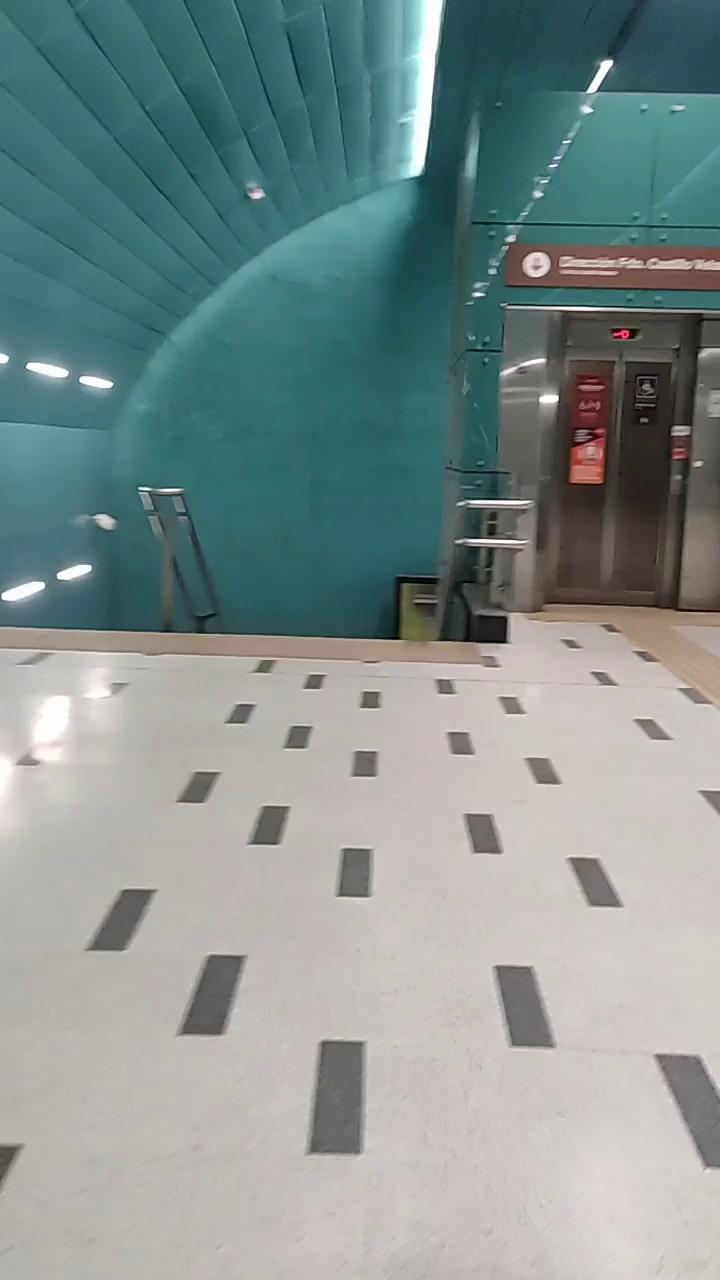down arrow: (529, 255, 545, 273)
handicapped symbol: (638, 378, 655, 396)
